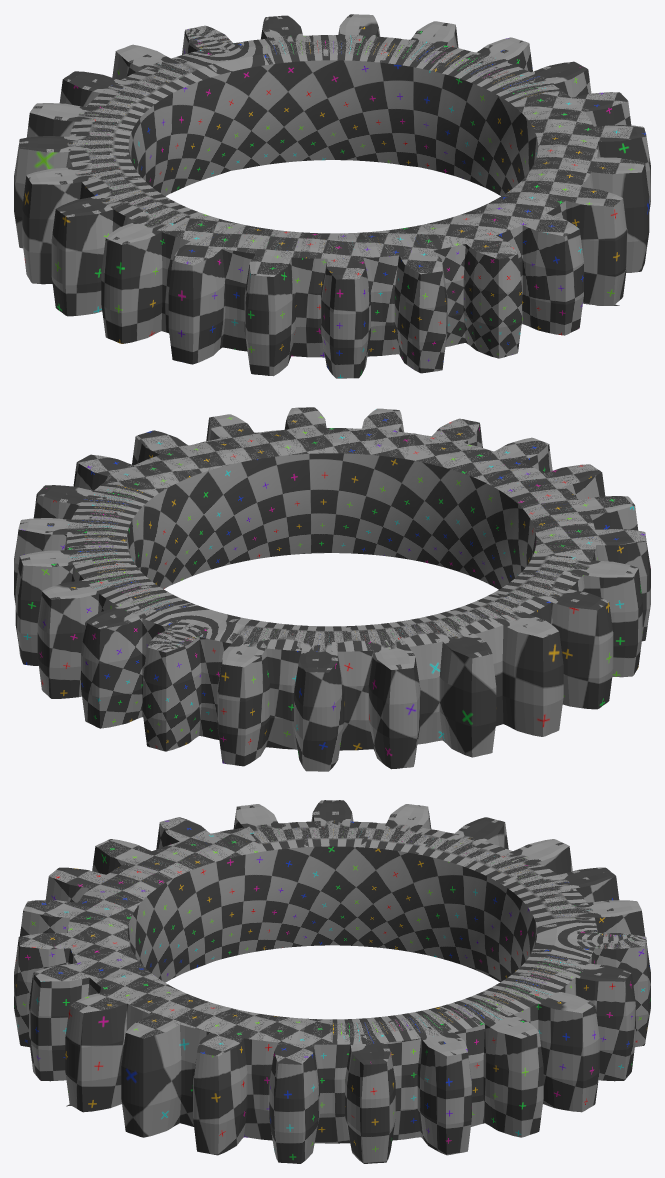
Rendered from gear_uv.gltf.
3 views of the same model, one above another, from view 1: azimuth 30°, elevation 25°; view 2: azimuth 150°, elevation 25°; view 3: azimuth 270°, elevation 25° (orthographic).
Parts seen in each view (by area): view 1: Gear; view 2: Gear; view 3: Gear.
Part boxes in pixels (x1=…): Gear: x1=14, y1=14, x2=650, y2=378; Gear: x1=14, y1=407, x2=650, y2=771; Gear: x1=14, y1=800, x2=650, y2=1163.
Bounding box in the file's own units: 2.33 × 0.4239 × 2.33.
Materials: 1 (1 with a texture image).
